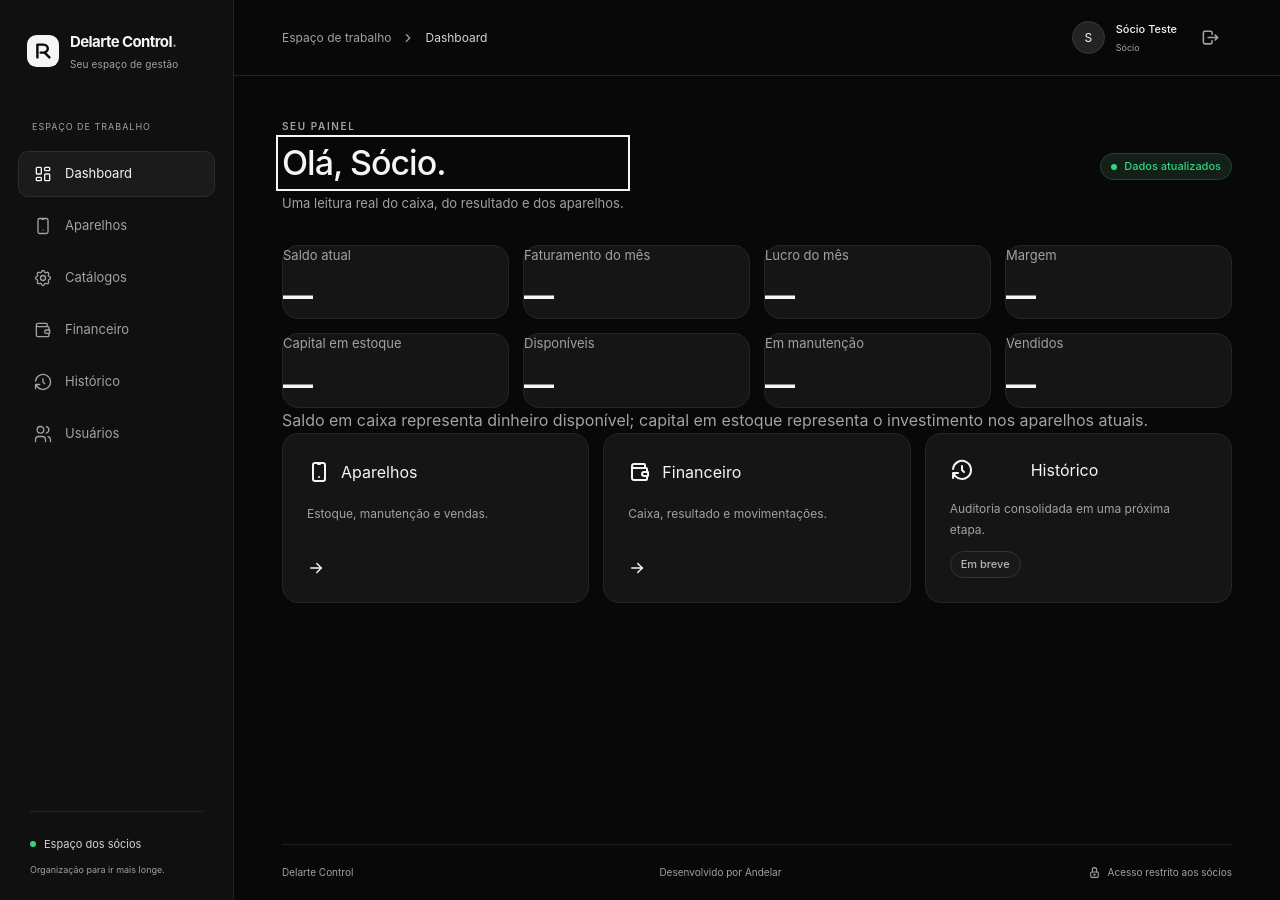
it: authentication and routing › logs out, removes user and clears private queries
This screenshot has width=1280, height=900.
Expected: the heading "Olá, Sócio." is shown, [282, 142, 446, 183]
Click the button named "Sair" at {"x": 1210, "y": 38}, box [1188, 16, 1232, 60]
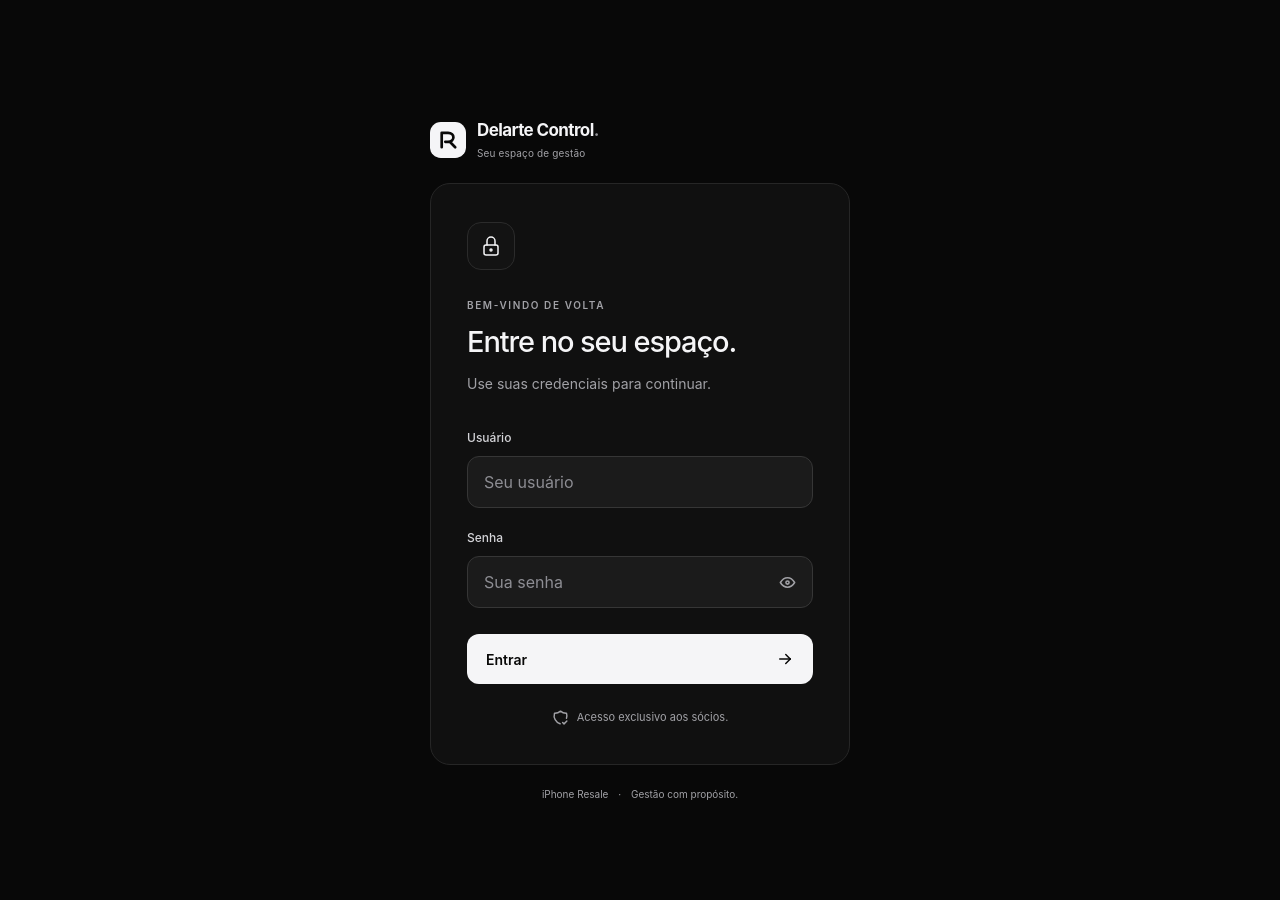
Expected: the heading "Entre no seu espaço." is shown, [467, 324, 736, 359]
Expected: the text "Sócio Teste" is gone
